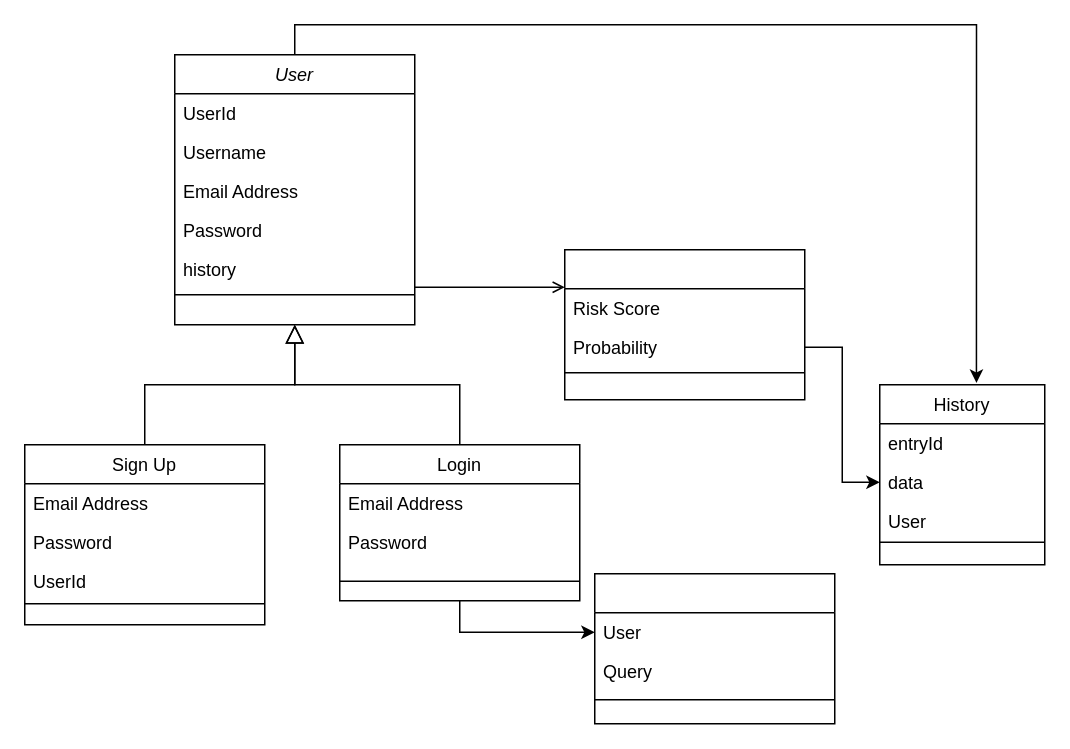
Some shapes in this 1070 by 749 pixel diagram are drawn without their labels. The box of each missing label's shape, as (x1, y1, x2, y2) in pixels:
Chatbot: (593, 572, 835, 724)
Risk Prediction: (563, 248, 805, 400)
